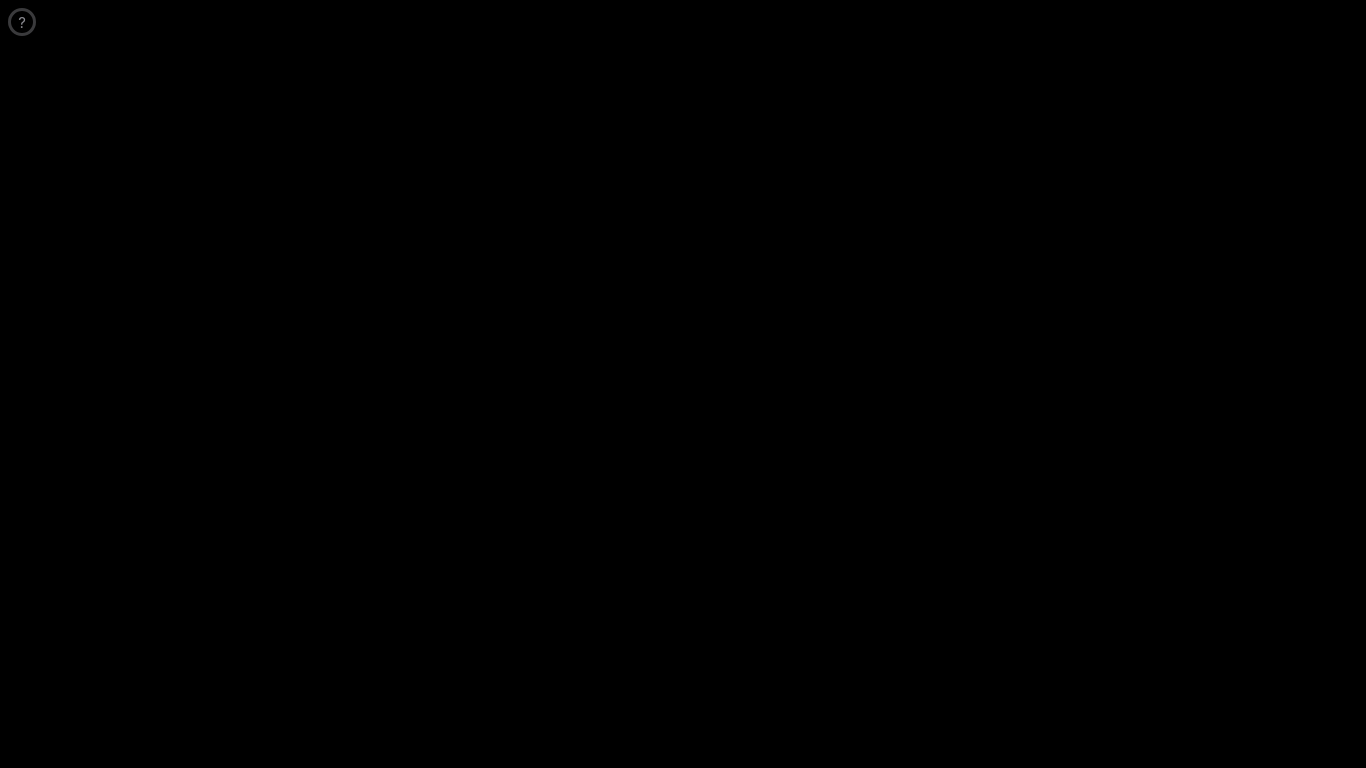
it: eksik havuz ve pencere listeleri kota arayüzünü çökertmez
The width and height of the screenshot is (1366, 768).
Later steps or results of the test are not shown.
Click the button named "Kota panelini aç" at point(22, 22), box [0,0,44,44]
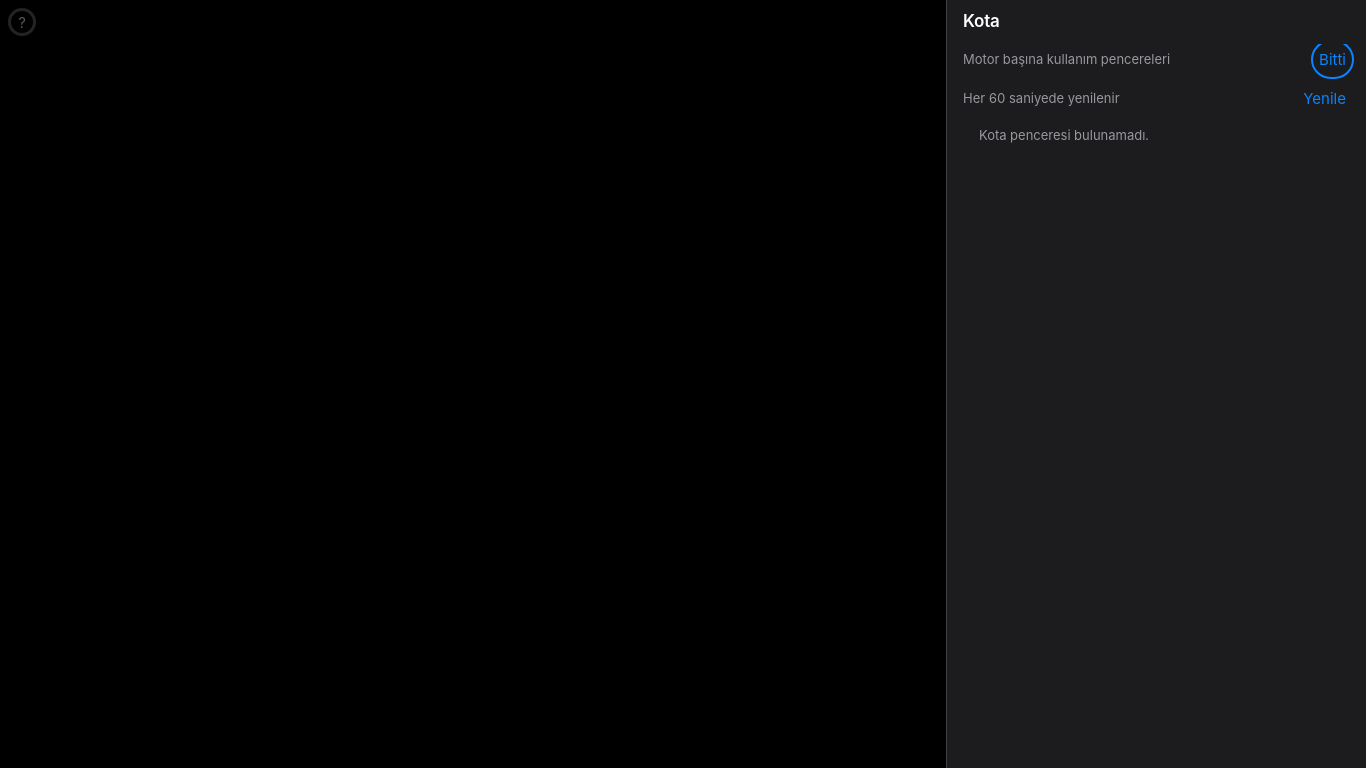
Expected: the text "Kota penceresi bulunamadı." is shown, [979,127,1149,143]
